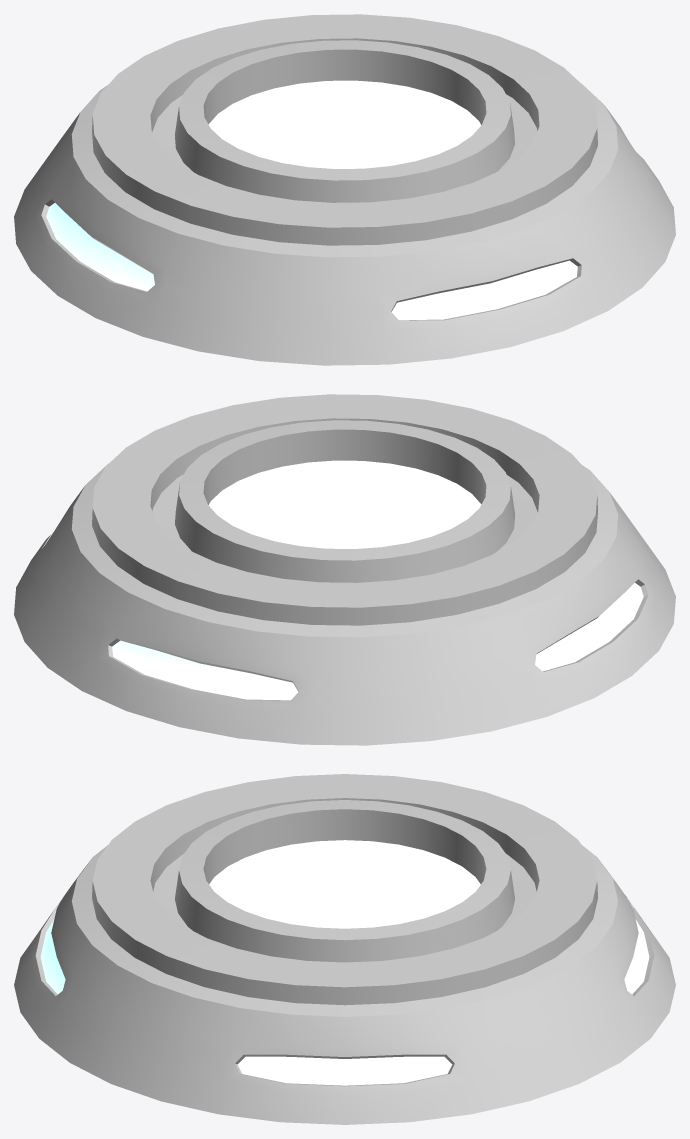
Rendered from Stand.fbx.
3 renders of one model, top to bottom at view 1: azimuth 30°, elevation 25°; view 2: azimuth 150°, elevation 25°; view 3: azimuth 270°, elevation 25°, orthographic.
Parts seen in each view (by area): view 1: Cylinder.001; view 2: Cylinder.001; view 3: Cylinder.001.
Boxes of the visible parts, x1,y1,x2,y2 form: Cylinder.001: [14, 14, 675, 365]; Cylinder.001: [14, 394, 675, 745]; Cylinder.001: [14, 774, 675, 1124].
Size of the model in its own units: 6.96 by 1.35 by 6.96.
